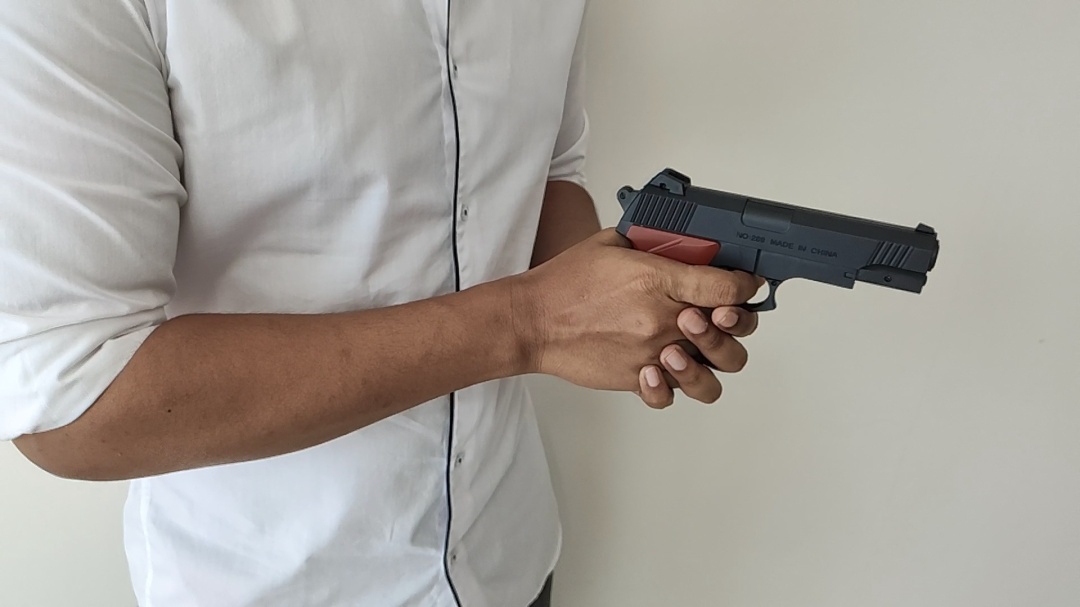gun: (614, 166, 941, 313)
